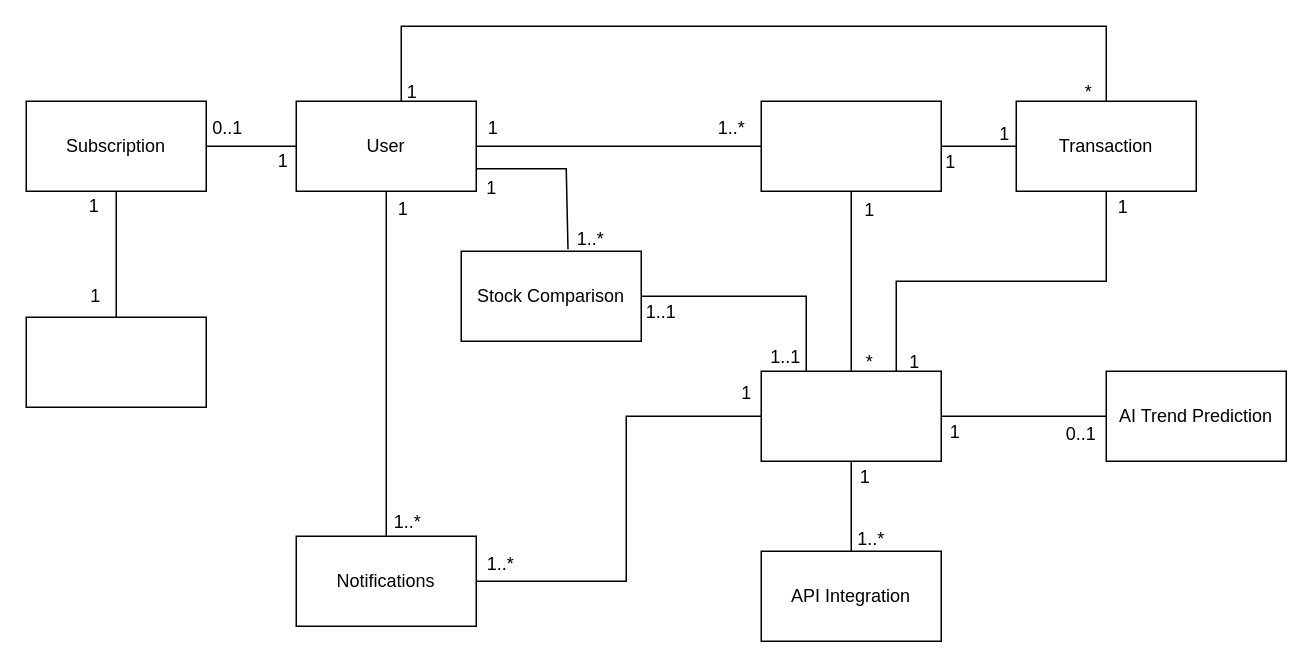
The diagram is 1313 pixels wide and 668 high, and some of its shapes have lost their labels. The shapes that lost their labels are listed below. From the top down, each one's centre as x and y in pixels, then its label:
At pixel 850 145: "Portifolio".
At pixel 115 361: "Real-time Data".
At pixel 850 415: "Stock (Watchlist)".
